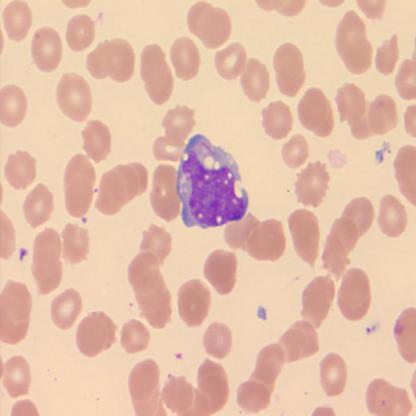Blast: (175, 133, 250, 232)
